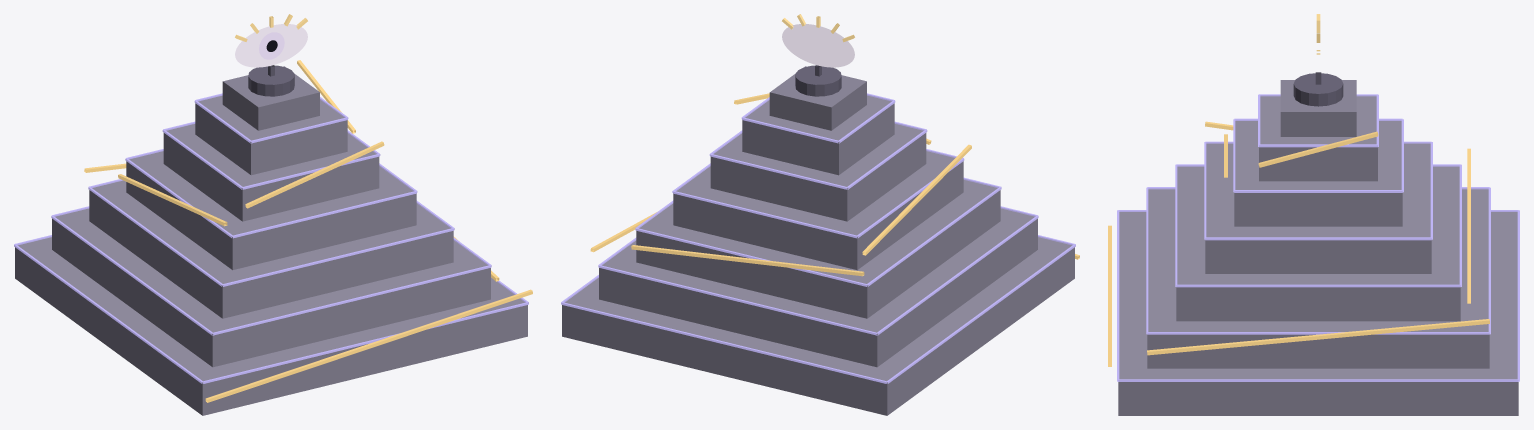
The model's file is halcyon_landmark.glb.
3 renders of one model, left to right at view 1: azimuth 30°, elevation 25°; view 2: azimuth 150°, elevation 25°; view 3: azimuth 270°, elevation 25°, orthographic. The views are drawn at different scales.
Parts seen in each view (by area): view 1: landmark_halcyon; view 2: landmark_halcyon; view 3: landmark_halcyon.
Part boxes in pixels (x1,y1,x2,y2): landmark_halcyon: (14, 14, 532, 415); landmark_halcyon: (561, 14, 1079, 415); landmark_halcyon: (1108, 14, 1519, 415).
Bounding box in the file's own units: 58.32 × 49.5 × 59.64.
